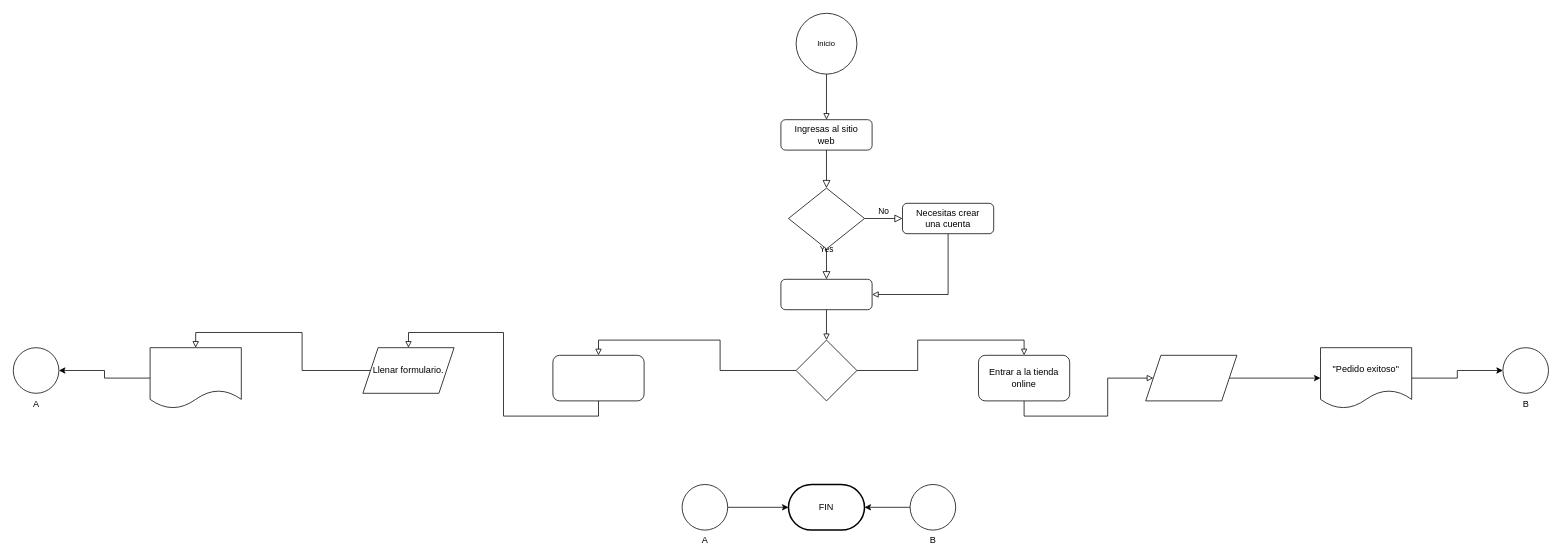
Image size: 1562x559. Some labels were removed from this diagram. Here are the shapes that lost their labels. From the top down, the centre of each, then its label:
[826,218]: Estas regitrado?
[826,294]: Hacer login en la pagina.
[195,377]: "Envio del formulario exitoso"
[598,378]: Usar formulario para reportar un imcidente
[826,370]: Menu
[1191,378]: Agregar ariculos
